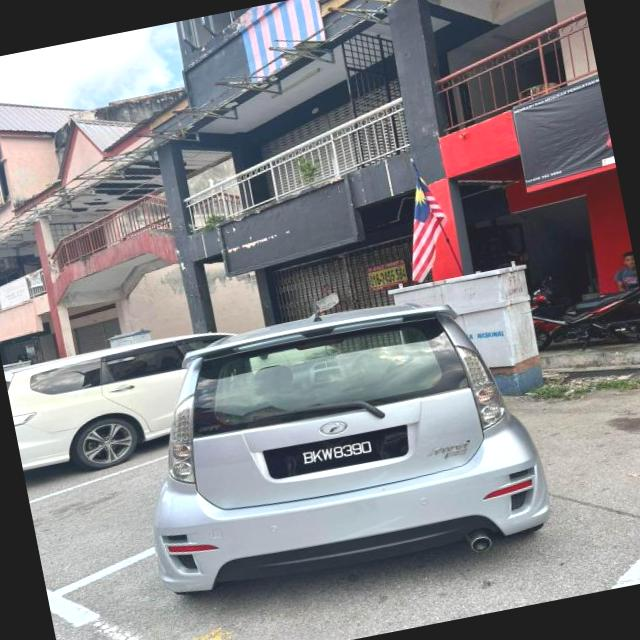PeroduaMyvi: (115, 276, 558, 612)
